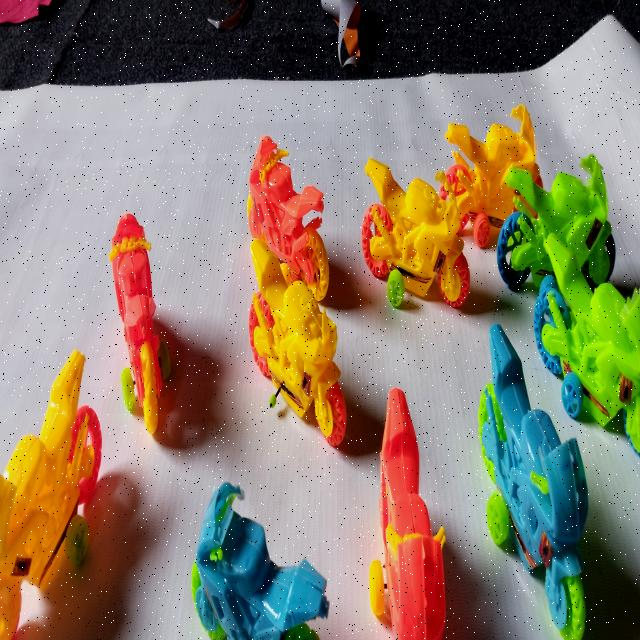bikes: (479, 324, 588, 640), (0, 350, 101, 640), (536, 233, 640, 453), (191, 482, 329, 640), (250, 239, 346, 446), (370, 388, 446, 640), (361, 159, 469, 307), (497, 155, 615, 289), (436, 105, 542, 246), (109, 214, 170, 434), (248, 136, 329, 299)
others: (0, 0, 640, 90), (322, 0, 357, 60), (208, 0, 249, 31), (0, 0, 52, 23), (321, 0, 357, 31), (344, 28, 360, 57), (347, 5, 360, 29), (345, 55, 357, 64)
